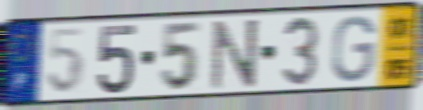3: (279, 14, 321, 89)
5: (94, 22, 139, 96), (159, 19, 203, 93), (45, 26, 87, 97)
G: (329, 13, 378, 85)
N: (209, 16, 262, 92)
